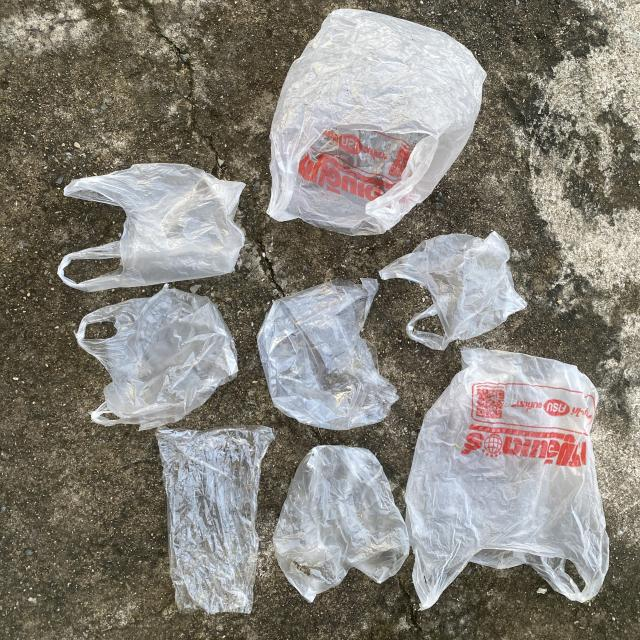Single-layer Plastic: (405, 348, 609, 610), (268, 9, 486, 235), (75, 284, 238, 430), (58, 164, 245, 291), (156, 426, 274, 614), (272, 445, 409, 601), (258, 279, 399, 430), (379, 231, 526, 350)
